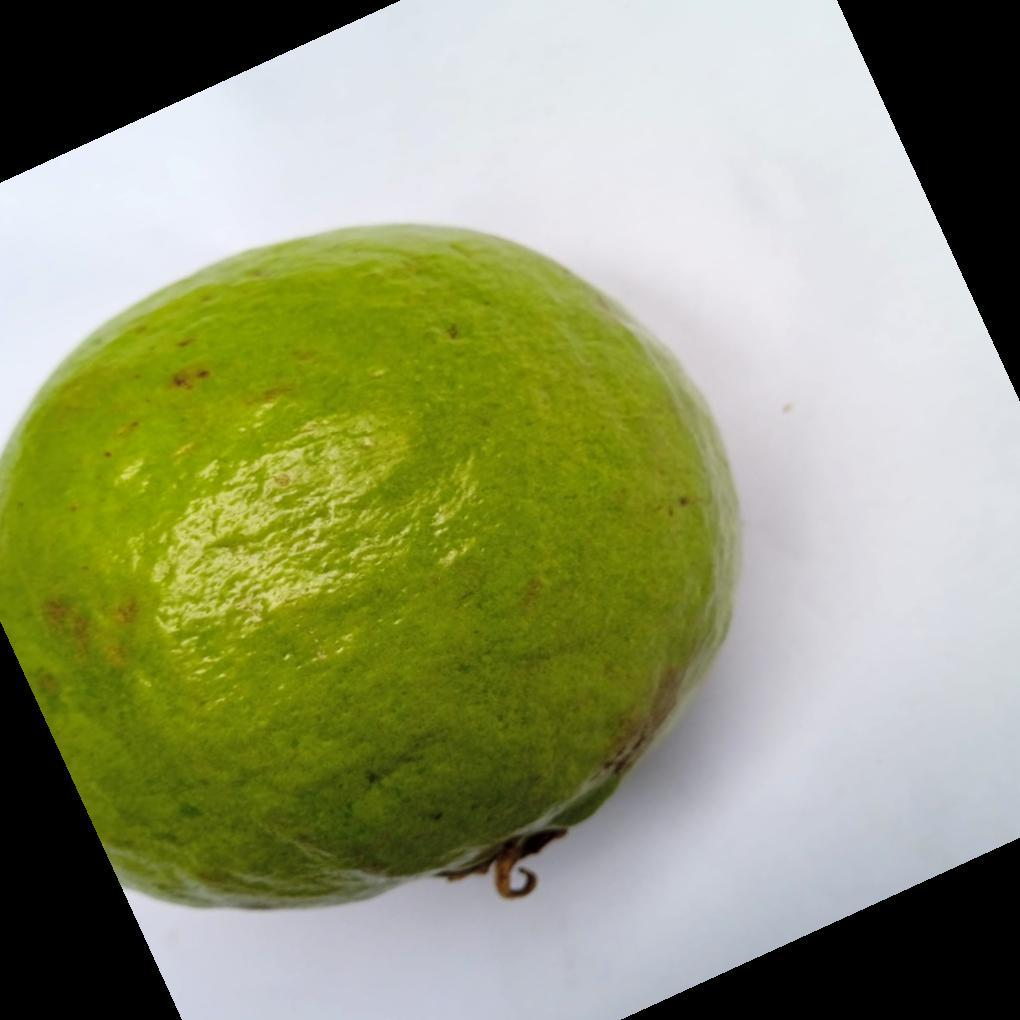FreshGuava: (0, 223, 743, 916)
